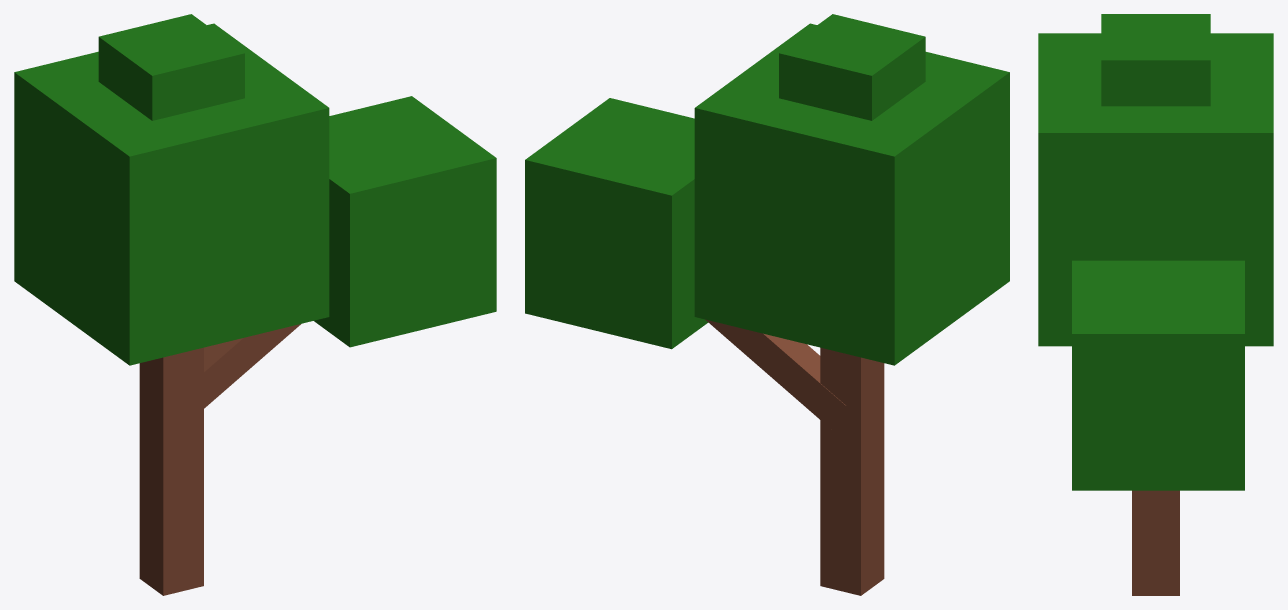
File: Tree_48_summer_vc.fbx
3 views of the same model, side by side, from view 1: azimuth 30°, elevation 25°; view 2: azimuth 150°, elevation 25°; view 3: azimuth 270°, elevation 25° (orthographic). The views are drawn at different scales.
Parts seen in each view (by area): view 1: Tree_48_summer_vc; view 2: Tree_48_summer_vc; view 3: Tree_48_summer_vc.
Boxes of the visible parts, box(x1,y1,x2,y2) form: Tree_48_summer_vc: box(14, 14, 496, 595); Tree_48_summer_vc: box(525, 14, 1009, 595); Tree_48_summer_vc: box(1038, 14, 1273, 595).
Bounding box in the file's own units: 140 × 187 × 72.7.
